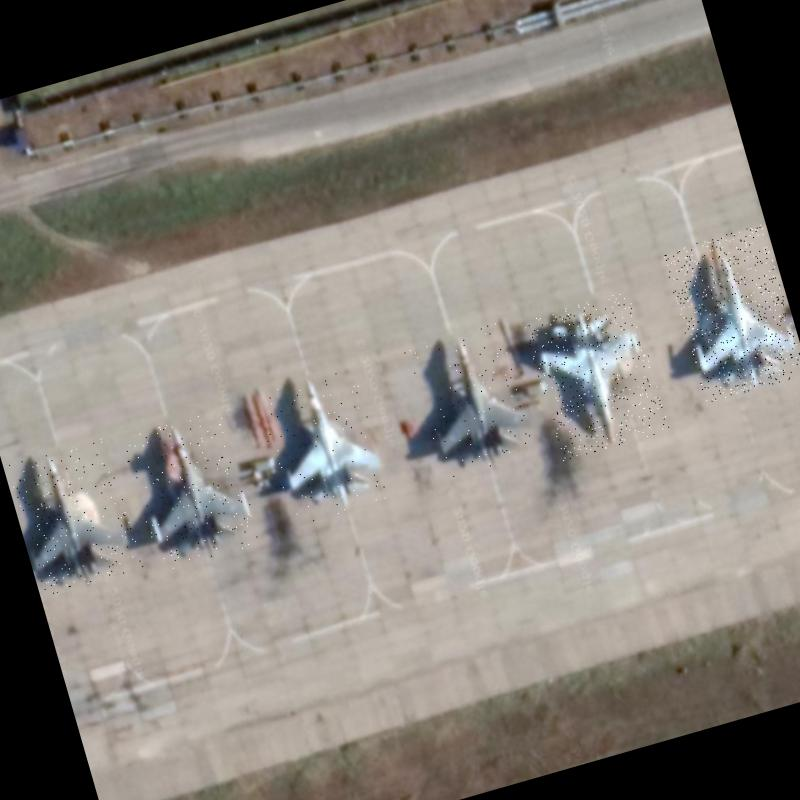A1: (522, 290, 670, 461), (661, 223, 800, 403), (253, 362, 394, 528), (120, 408, 261, 572), (7, 436, 144, 596), (403, 321, 536, 480)
